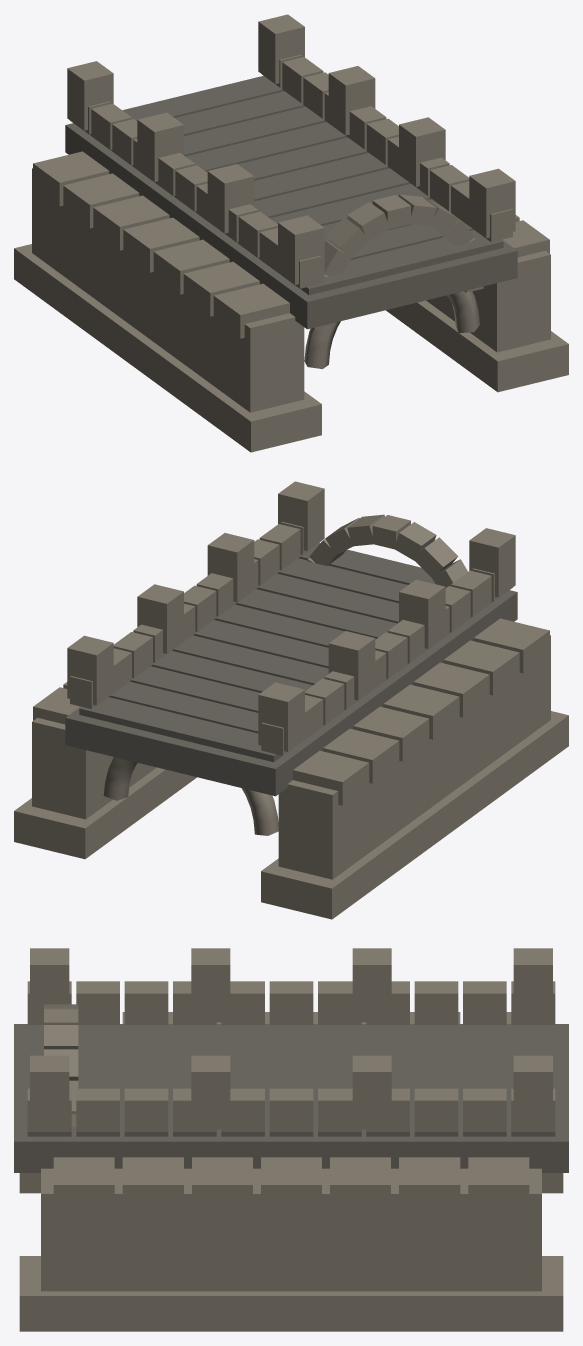
Rendered from stone-bridge.source.glb.
3 renders of one model, top to bottom at view 1: azimuth 30°, elevation 25°; view 2: azimuth 150°, elevation 25°; view 3: azimuth 270°, elevation 25°, orthographic. The views are drawn at different scales.
Visible parts, largest first — view 1: stone-bridge-left-abutment-wall-mesh, stone-bridge-deck-core-mesh, stone-bridge-left-abutment-foot-mesh, stone-bridge-right-abutment-foot-mesh, stone-bridge-right-abutment-wall-mesh, stone-bridge-deck-slab-2.0999999999999996-mesh, stone-bridge-deck-slab--0.8400000000000003-mesh, stone-bridge-deck-slab-0.41999999999999965-mesh, stone-bridge-deck-slab--1.2600000000000002-mesh, stone-bridge-deck-slab--2.1-mesh, stone-bridge-deck-slab--3.3306690738754696e-16-mesh, stone-bridge-left-abutment-block-1.7999999999999998-mesh (+40 smaller); view 2: stone-bridge-left-abutment-wall-mesh, stone-bridge-deck-core-mesh, stone-bridge-left-abutment-foot-mesh, stone-bridge-right-abutment-foot-mesh, stone-bridge-right-abutment-wall-mesh, stone-bridge-deck-slab--2.1-mesh, stone-bridge-deck-slab-0.8399999999999996-mesh, stone-bridge-deck-slab--0.4200000000000003-mesh, stone-bridge-deck-slab--1.6800000000000002-mesh, stone-bridge-deck-slab-1.2599999999999996-mesh, stone-bridge-deck-slab--3.3306690738754696e-16-mesh, stone-bridge-deck-slab--0.8400000000000003-mesh (+40 smaller); view 3: stone-bridge-right-abutment-wall-mesh, stone-bridge-right-abutment-foot-mesh, stone-bridge-deck-core-mesh, stone-bridge-right-abutment-block--1.8-mesh, stone-bridge-right-abutment-block--1.2000000000000002-mesh, stone-bridge-right-abutment-block-1.1999999999999997-mesh, stone-bridge-right-abutment-block-1.7999999999999998-mesh, stone-bridge-right-abutment-block--0.6000000000000002-mesh, stone-bridge-right-abutment-block--2.220446049250313e-16-mes, stone-bridge-right-abutment-block-0.5999999999999998-mesh, stone-bridge-deck-slab--1.2600000000000002-mesh, stone-bridge-deck-slab--3.3306690738754696e-16-mesh (+39 smaller).
Part boxes in pixels (x1,y1,x2,y2): stone-bridge-left-abutment-wall-mesh: (32,168,304,412); stone-bridge-deck-core-mesh: (65,123,517,329); stone-bridge-left-abutment-foot-mesh: (14,244,321,452); stone-bridge-right-abutment-foot-mesh: (386,300,568,392); stone-bridge-right-abutment-wall-mesh: (426,250,550,352); stone-bridge-deck-slab-2.0999999999999996-mesh: (300,230,503,295); stone-bridge-deck-slab--0.8400000000000003-mesh: (185,122,347,171); stone-bridge-deck-slab-0.41999999999999965-mesh: (254,168,410,217); stone-bridge-deck-slab--1.2600000000000002-mesh: (132,106,326,166); stone-bridge-deck-slab--2.1-mesh: (89,76,284,135); stone-bridge-deck-slab--3.3306690738754696e-16-mesh: (195,153,389,212); stone-bridge-left-abutment-block-1.7999999999999998-mesh: (213,283,289,338); stone-bridge-left-abutment-wall-mesh: (278,635,550,879); stone-bridge-deck-core-mesh: (65,590,517,796); stone-bridge-left-abutment-foot-mesh: (261,711,568,919); stone-bridge-right-abutment-foot-mesh: (14,767,196,859); stone-bridge-right-abutment-wall-mesh: (32,717,156,819); stone-bridge-deck-slab--2.1-mesh: (79,697,282,762); stone-bridge-deck-slab-0.8399999999999996-mesh: (235,589,397,638); stone-bridge-deck-slab--0.4200000000000003-mesh: (172,635,328,684); stone-bridge-deck-slab--1.6800000000000002-mesh: (109,681,258,733); stone-bridge-deck-slab-1.2599999999999996-mesh: (256,573,450,633); stone-bridge-deck-slab--3.3306690738754696e-16-mesh: (193,620,387,679); stone-bridge-deck-slab--0.8400000000000003-mesh: (151,651,345,710); stone-bridge-right-abutment-wall-mesh: (41,1168,541,1291); stone-bridge-right-abutment-foot-mesh: (19,1256,563,1331); stone-bridge-deck-core-mesh: (14,1024,568,1172); stone-bridge-right-abutment-block--1.8-mesh: (468,1157,529,1212); stone-bridge-right-abutment-block--1.2000000000000002-mesh: (399,1157,460,1212); stone-bridge-right-abutment-block-1.1999999999999997-mesh: (122,1157,183,1212); stone-bridge-right-abutment-block-1.7999999999999998-mesh: (53,1157,114,1212); stone-bridge-right-abutment-block--0.6000000000000002-mesh: (330,1157,390,1212); stone-bridge-right-abutment-block--2.220446049250313e-16-mes: (261,1157,321,1212); stone-bridge-right-abutment-block-0.5999999999999998-mesh: (192,1157,252,1212); stone-bridge-deck-slab--1.2600000000000002-mesh: (414,1025,458,1136); stone-bridge-deck-slab--3.3306690738754696e-16-mesh: (269,1025,313,1136).
Bounding box in the file's own units: 3.66 × 2.23 × 4.82.
